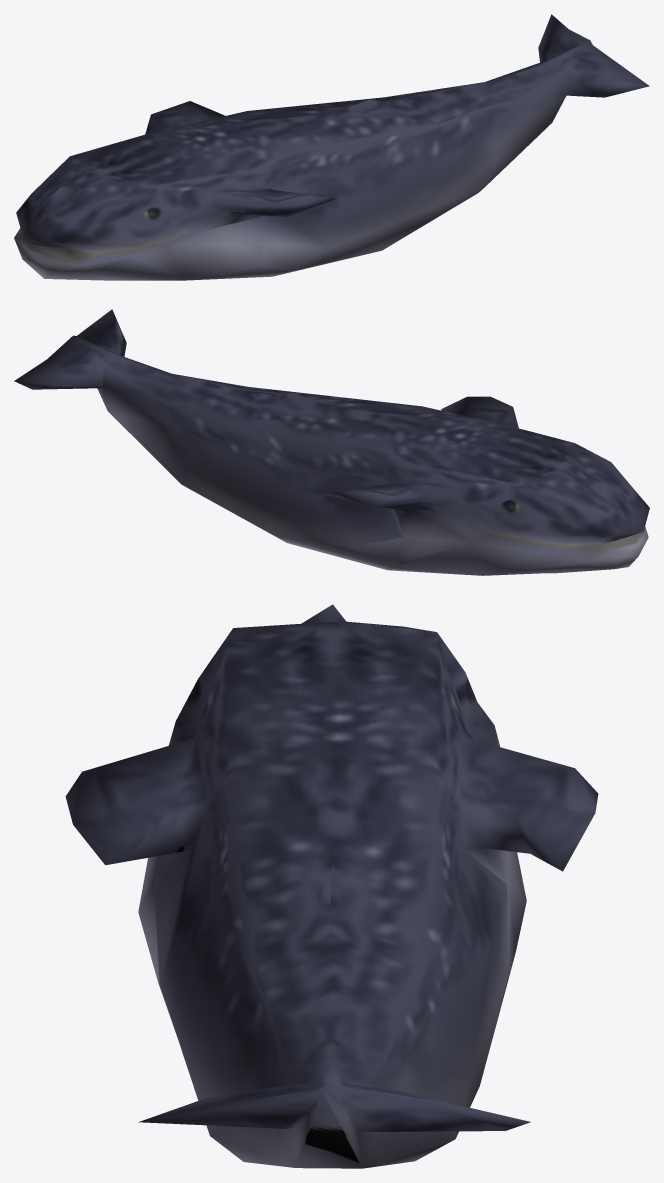
File: lowpolywhale.fbx
3 renders of one model, top to bottom at view 1: azimuth 30°, elevation 25°; view 2: azimuth 150°, elevation 25°; view 3: azimuth 270°, elevation 25°, orthographic. The views are drawn at different scales.
Visible parts, largest first — view 1: whale.001; view 2: whale.001; view 3: whale.001.
Part boxes in pixels (box(x1,y1,x2,y2)): whale.001: box(14, 14, 649, 280); whale.001: box(14, 309, 649, 575); whale.001: box(65, 604, 598, 1168).
Size of the model in its own units: 5733 by 1223 by 2285.
Materials: 1 (1 with a texture image).
